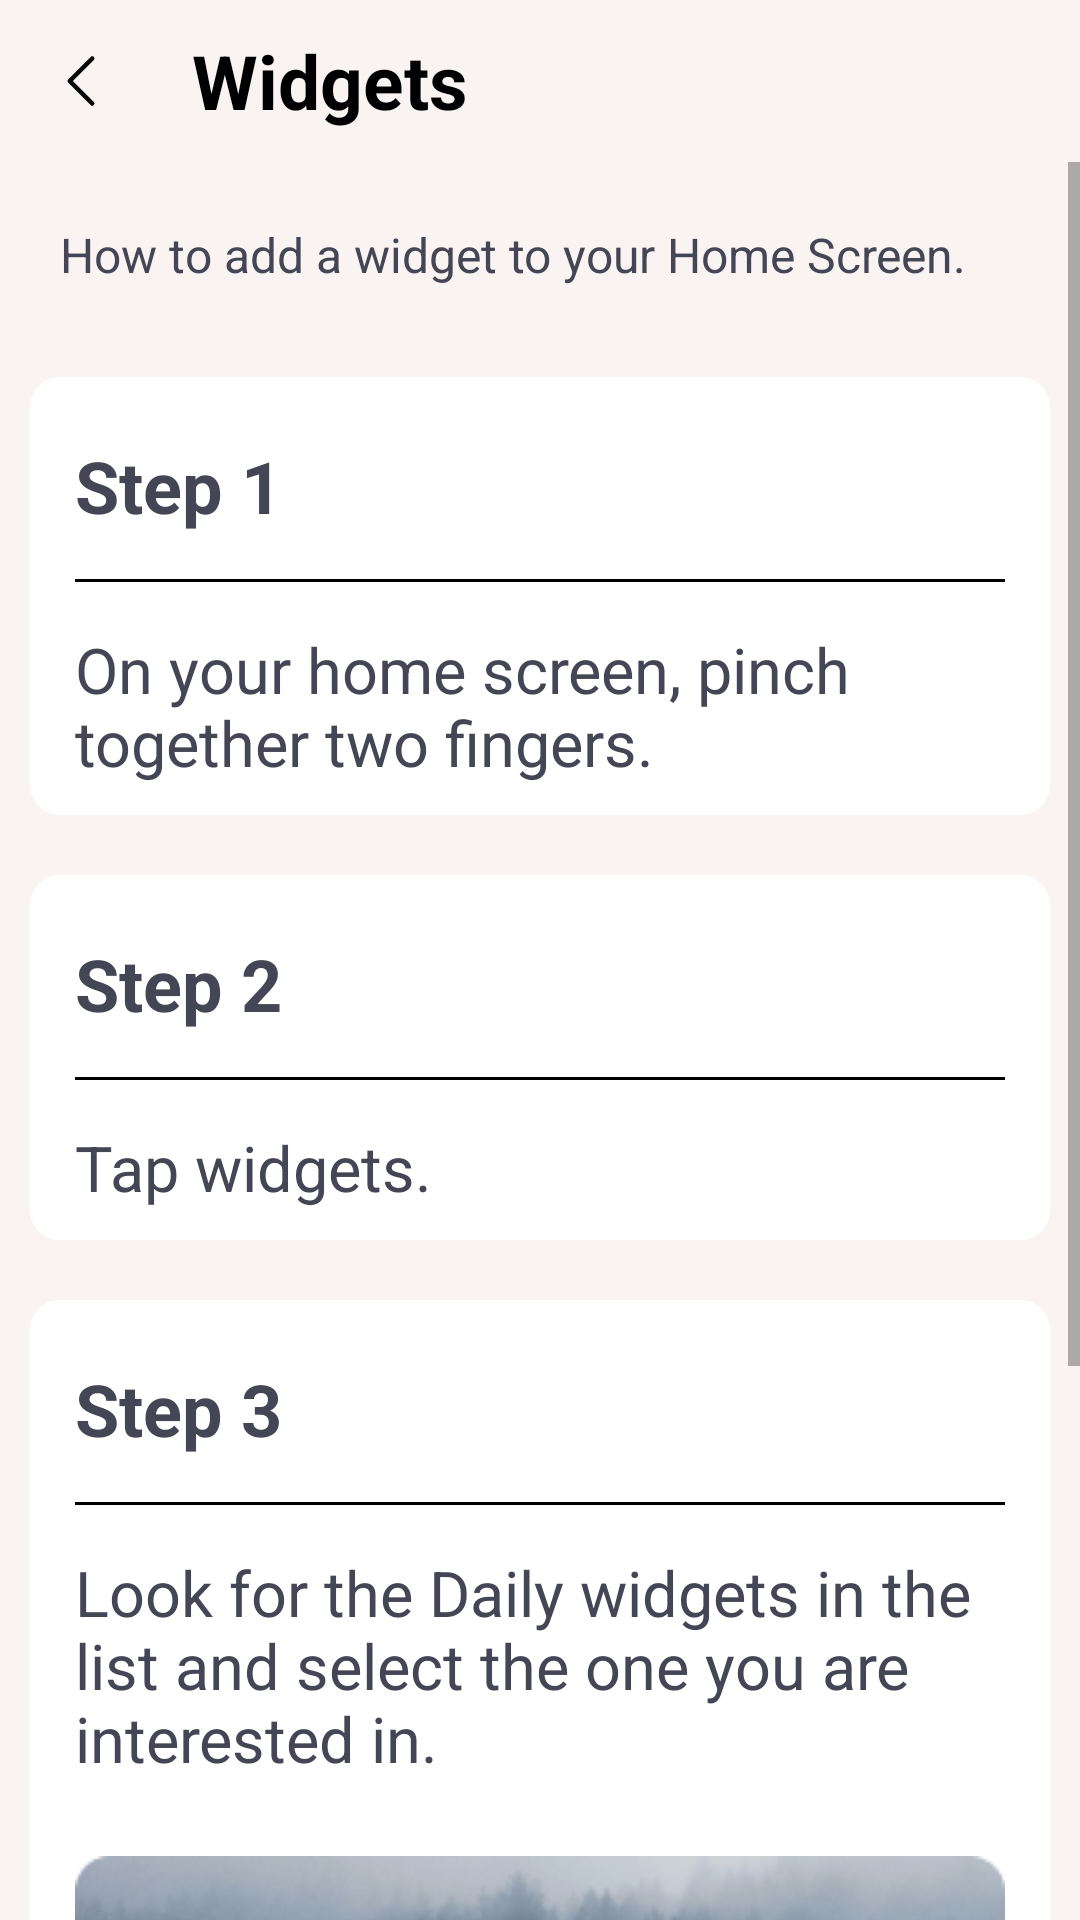

Screen size 1080w x 1920h. Icon name, then its box in pixels as (x1, y1, x2, y2):
back: (67, 56, 95, 106)
